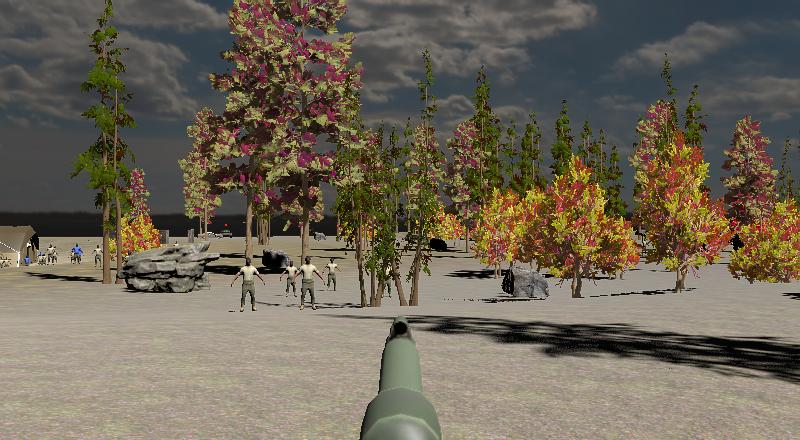Human: (230, 255, 267, 314), (278, 259, 300, 299), (70, 242, 85, 265), (91, 245, 101, 268)
